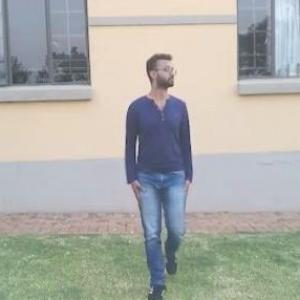follow: (120, 41, 204, 299)
